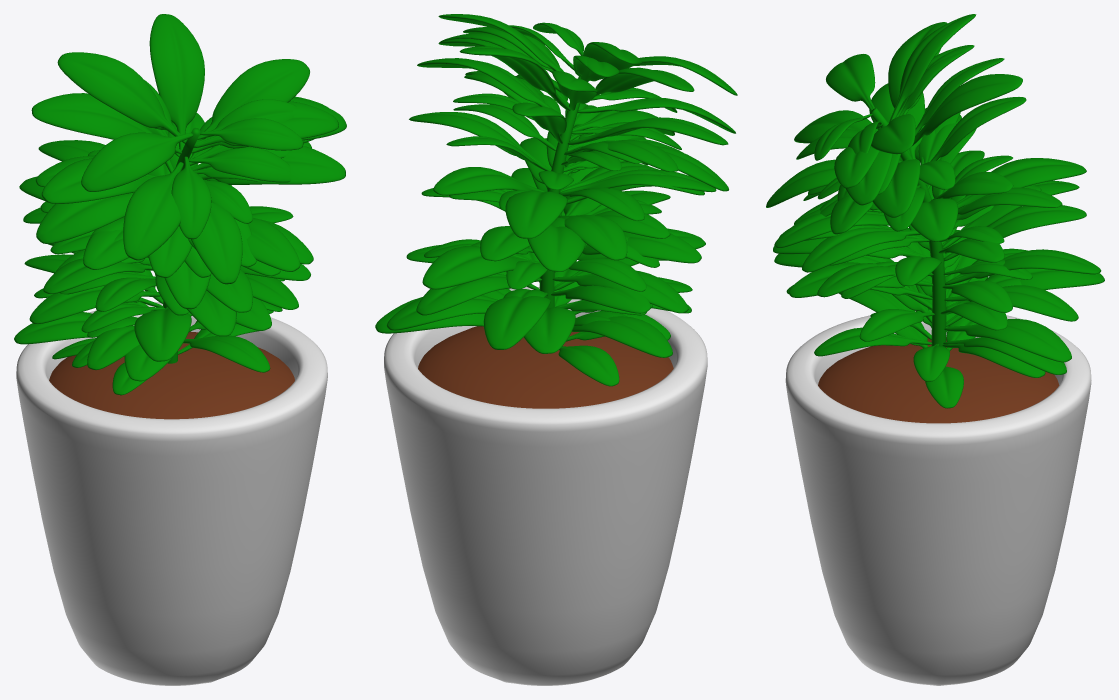
The model's file is TopfPfalanze2.fbx.
3 views of the same model, side by side, from view 1: azimuth 30°, elevation 25°; view 2: azimuth 150°, elevation 25°; view 3: azimuth 270°, elevation 25° (orthographic). The views are drawn at different scales.
Visible parts, largest first — view 1: Pflanze 2; view 2: Pflanze 2; view 3: Pflanze 2.
Boxes of the visible parts, <box> form: Pflanze 2: <box>14,14,346,685</box>; Pflanze 2: <box>375,14,737,685</box>; Pflanze 2: <box>766,14,1104,685</box>.
Size of the model in its own units: 215 by 422 by 217.
